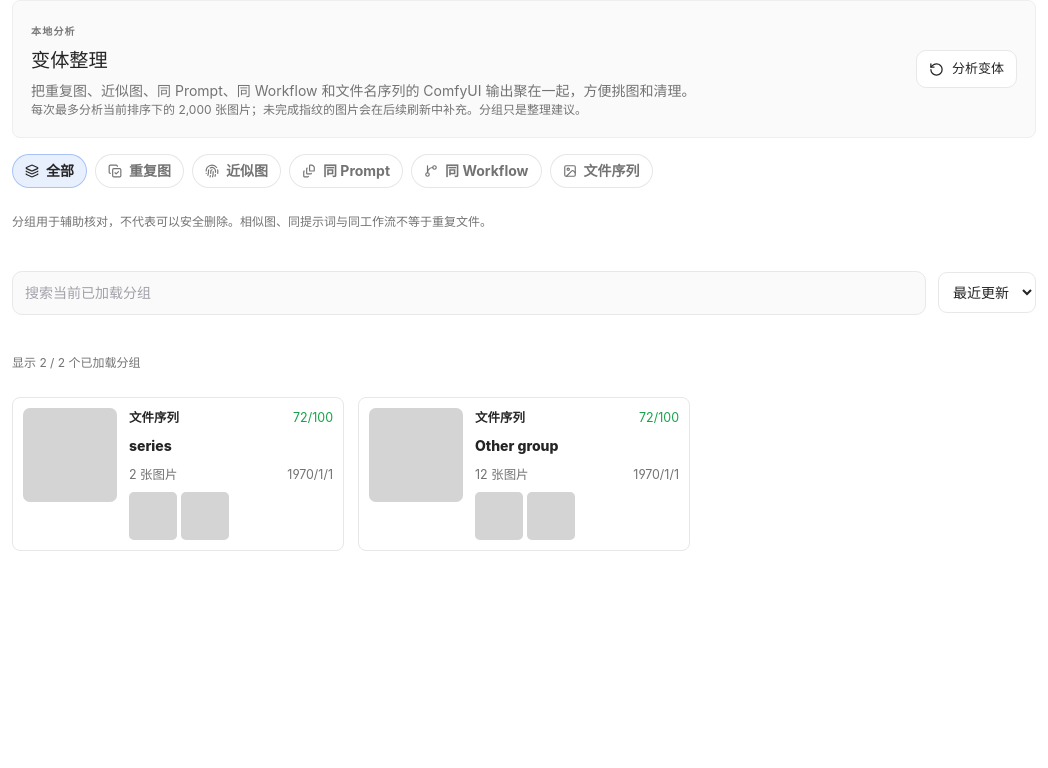
it: VariantGroupsView › searches loaded groups and sorts by count without mutating the input
Select "图片数量" in the dropdown at (987, 293), box [938,272,1036,313]
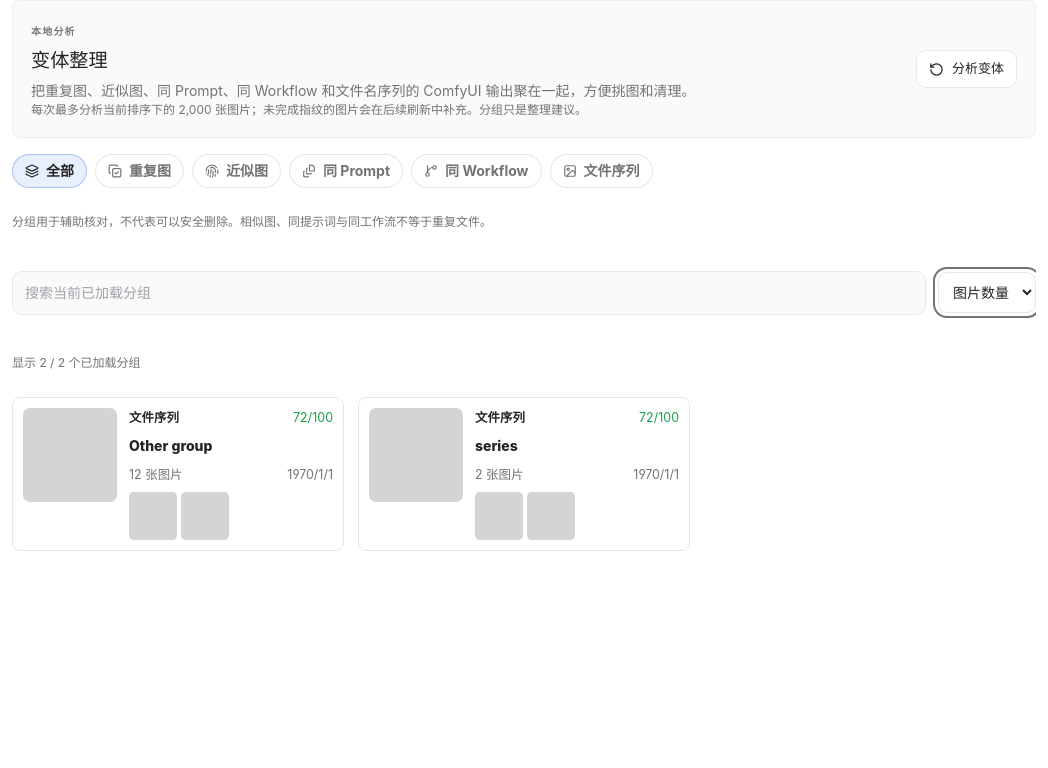
Expected: the button with class "ue-variant-card" shows "Other group", [12,397,344,551]
Type "Other group" into the field at (469, 293), box [12,270,926,315]
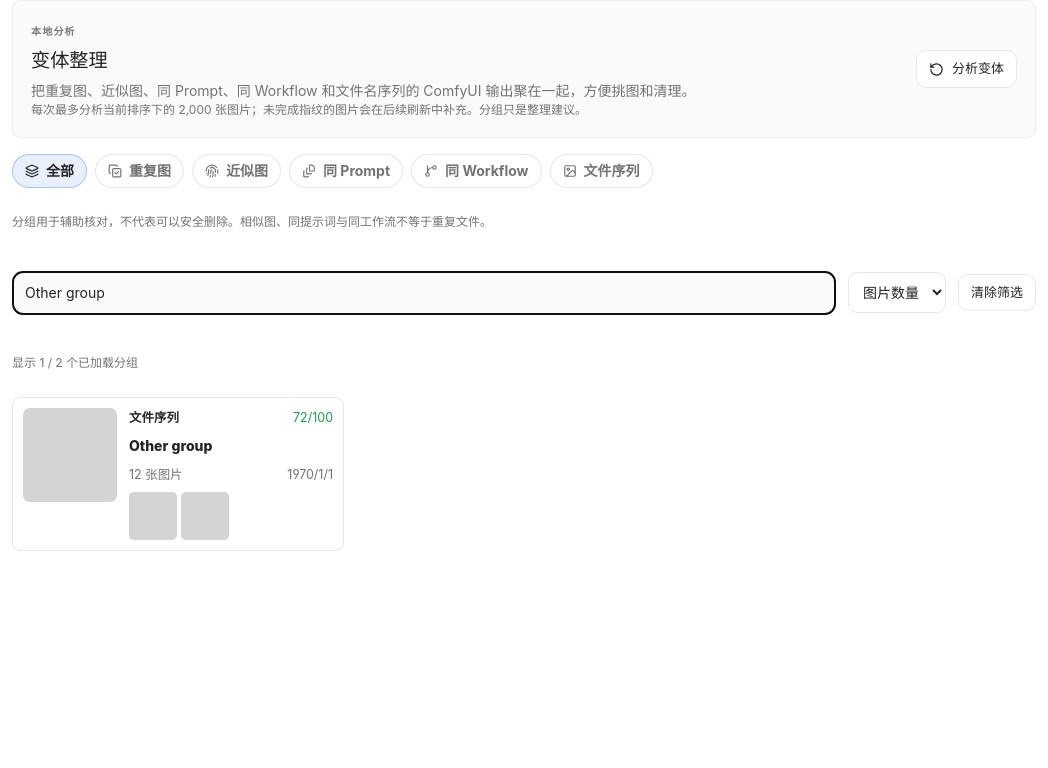
Expected: the number of buttons with class "ue-variant-card" is 1, [12,397,344,551]
Clear the field at (424, 293), box [12,270,836,315]
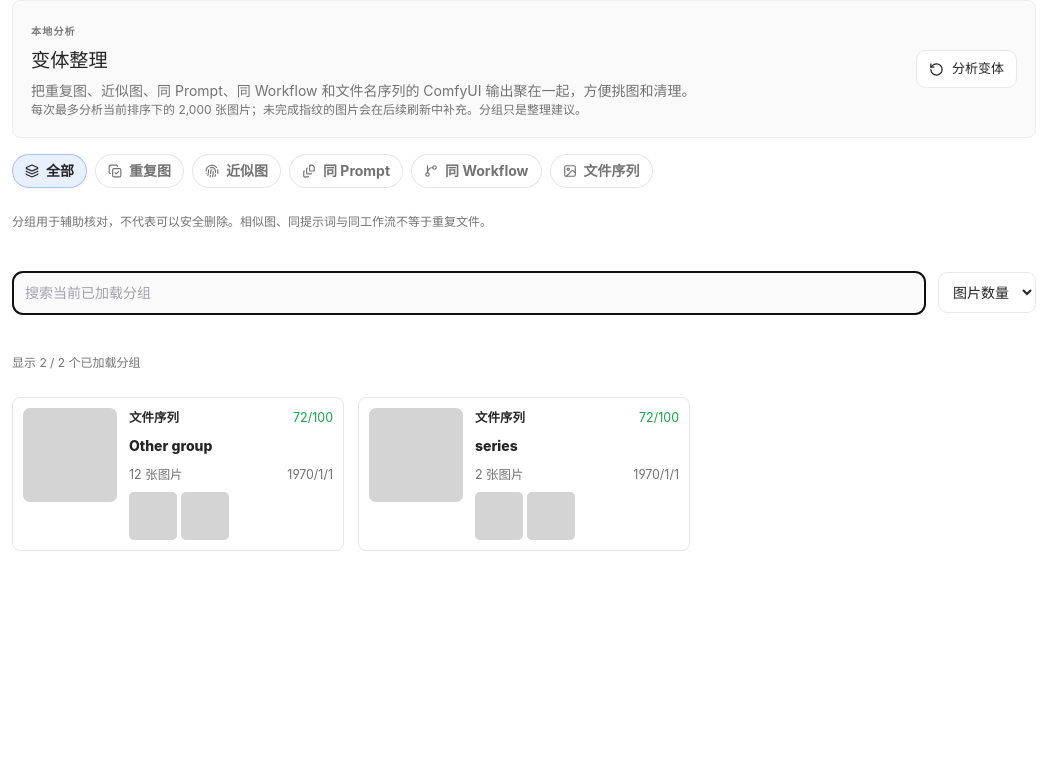
Type "absent" into the field at (469, 293), box [12,270,926,315]
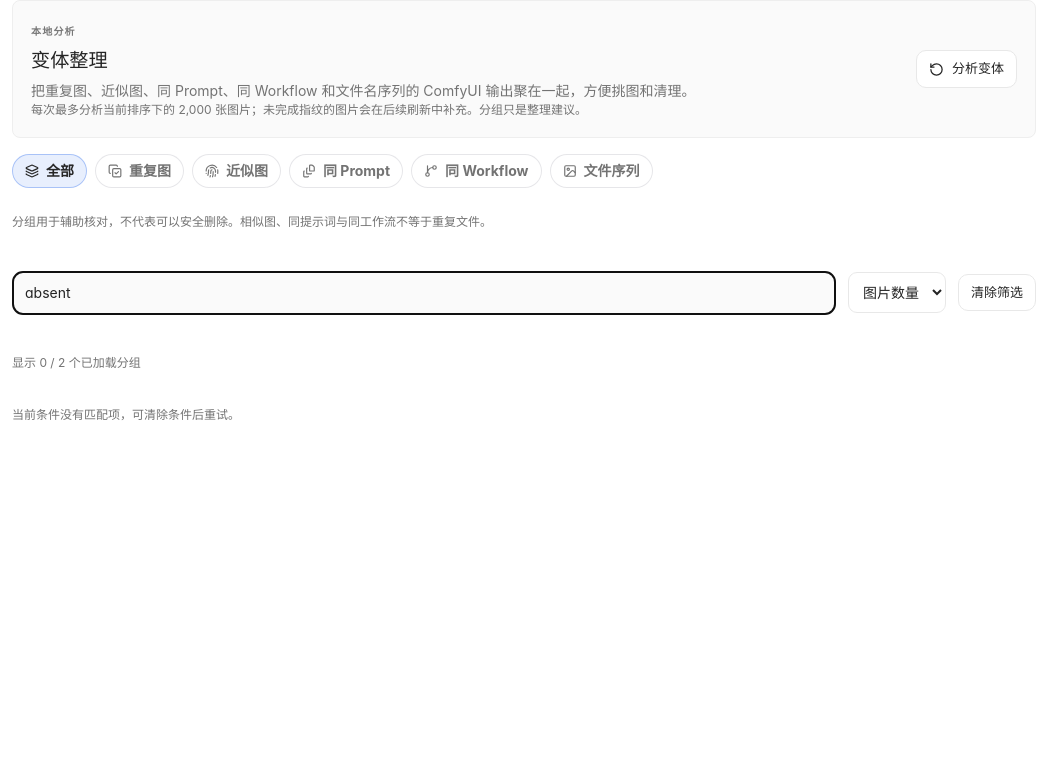
Now no buttons with class "ue-variant-card" are shown
